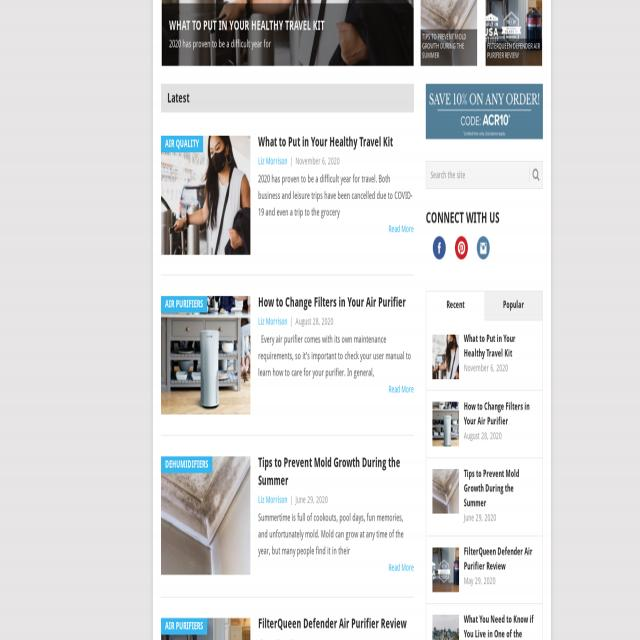button: (161, 278, 415, 428), (161, 440, 418, 587), (161, 124, 415, 264), (162, 0, 414, 67), (427, 458, 543, 536), (161, 608, 410, 640), (427, 322, 542, 389), (427, 390, 542, 457), (427, 537, 542, 604), (426, 84, 543, 138), (426, 605, 543, 640), (420, 0, 478, 66), (486, 0, 542, 66), (484, 291, 542, 321), (426, 291, 484, 321), (454, 236, 468, 260), (433, 236, 446, 260), (476, 236, 489, 260), (529, 167, 539, 182)
field: (426, 160, 543, 188)
